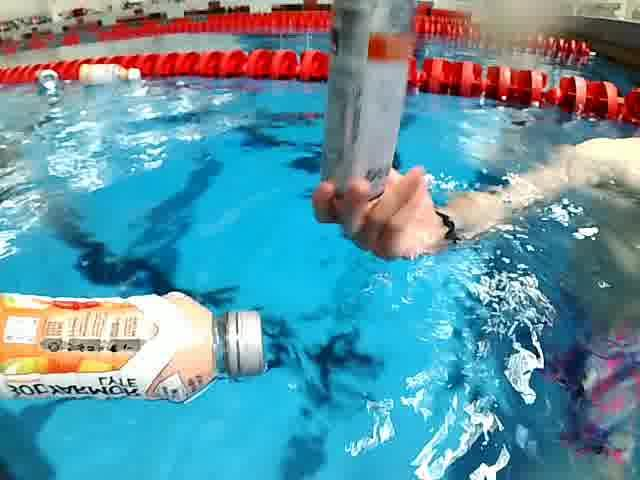Bottle: (0, 288, 284, 406), (78, 60, 148, 87)
Can: (313, 0, 402, 192), (36, 62, 59, 93)
